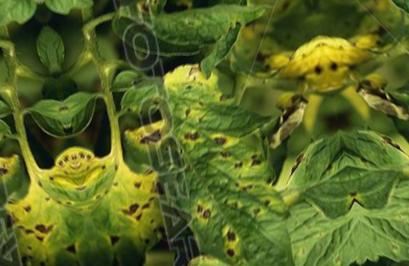Tomato Early blight leaf: (148, 42, 307, 266), (73, 136, 185, 266), (276, 0, 330, 92), (32, 0, 133, 22), (101, 254, 248, 266)
